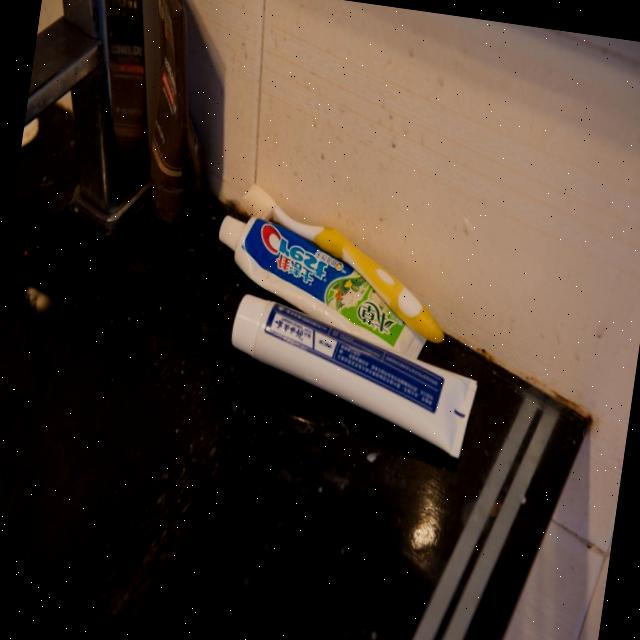Toothpaste: (201, 288, 488, 464), (192, 211, 462, 360)
